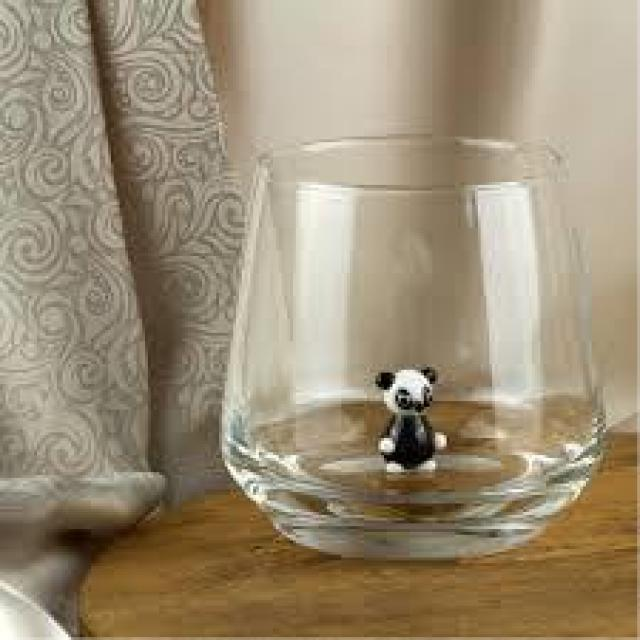non-organic waste: (218, 131, 613, 563)
